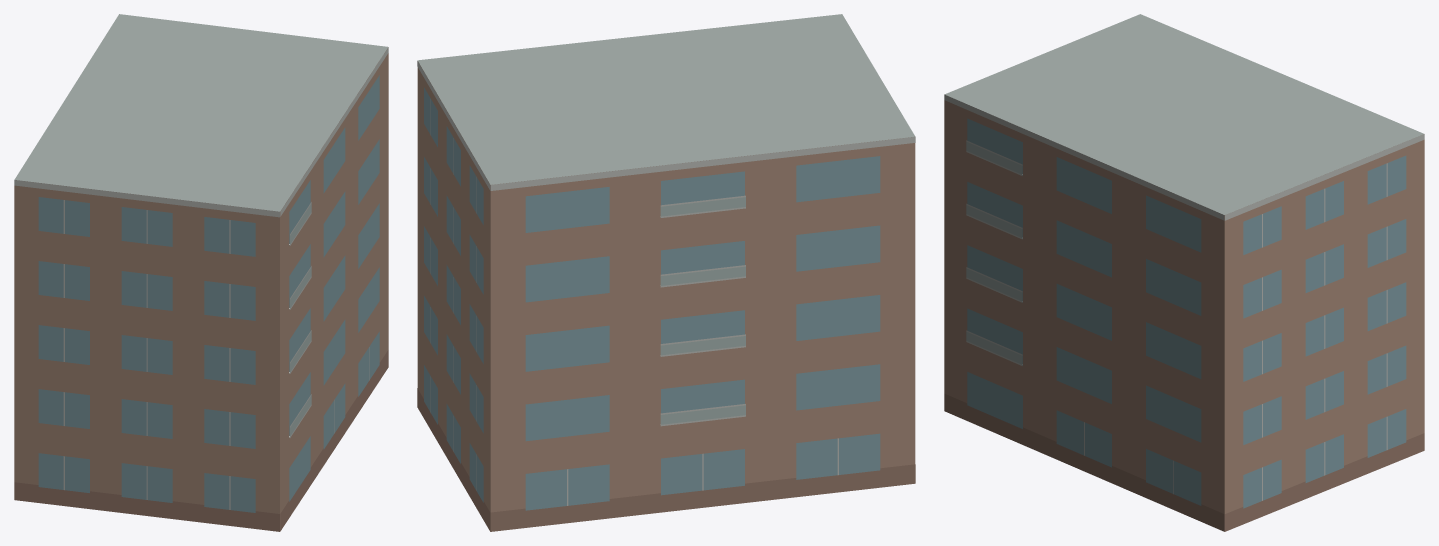
The model's file is survey-upis-32600370.glb.
3 renders of one model, left to right at view 1: azimuth 30°, elevation 25°; view 2: azimuth 150°, elevation 25°; view 3: azimuth 270°, elevation 25°, orthographic. The views are drawn at different scales.
Parts seen in each view (by area): view 1: survey-upis-32600370.tmp; view 2: survey-upis-32600370.tmp; view 3: survey-upis-32600370.tmp.
Boxes of the visible parts, x1,y1,x2,y2 form: survey-upis-32600370.tmp: (14, 14, 388, 531); survey-upis-32600370.tmp: (417, 14, 915, 531); survey-upis-32600370.tmp: (944, 14, 1424, 531).
Bounding box in the file's own units: 18.68 × 13.7 × 18.83.
